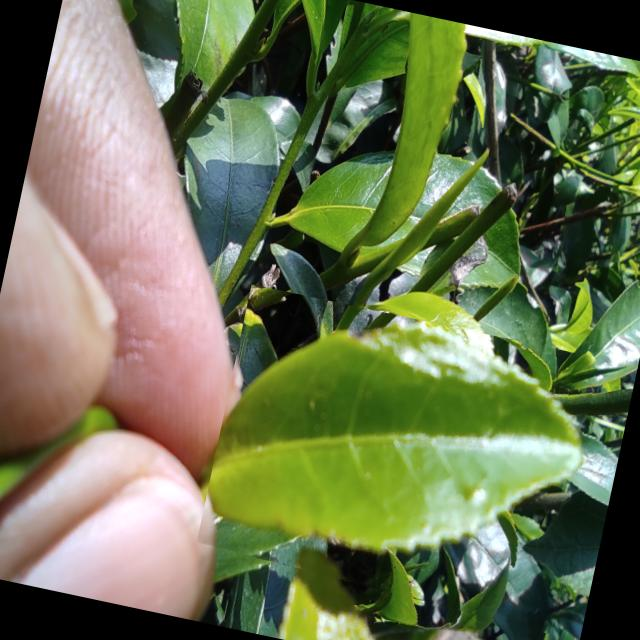Category C(4-7 days): (192, 284, 610, 634)
